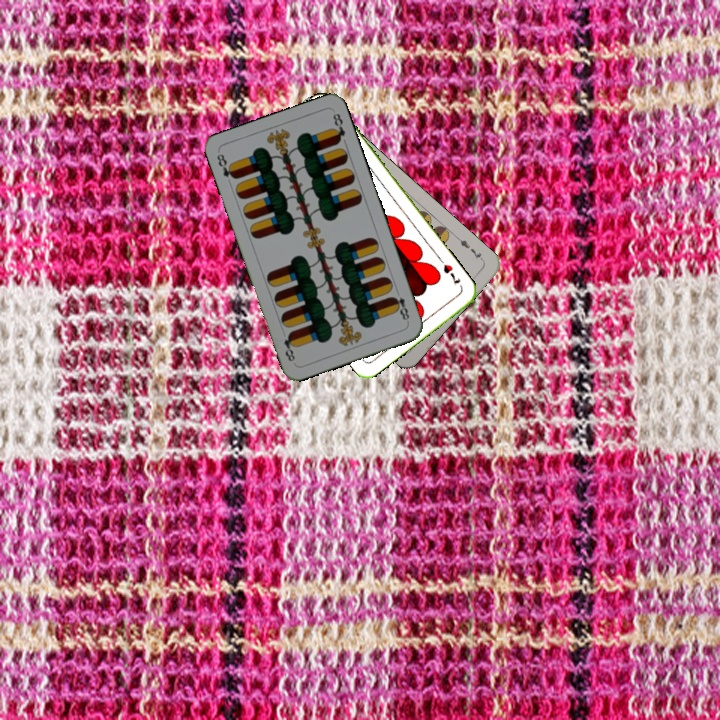E7: (453, 233, 487, 264)
E8: (213, 149, 239, 182), (388, 292, 412, 325)
H7: (439, 260, 463, 287)
